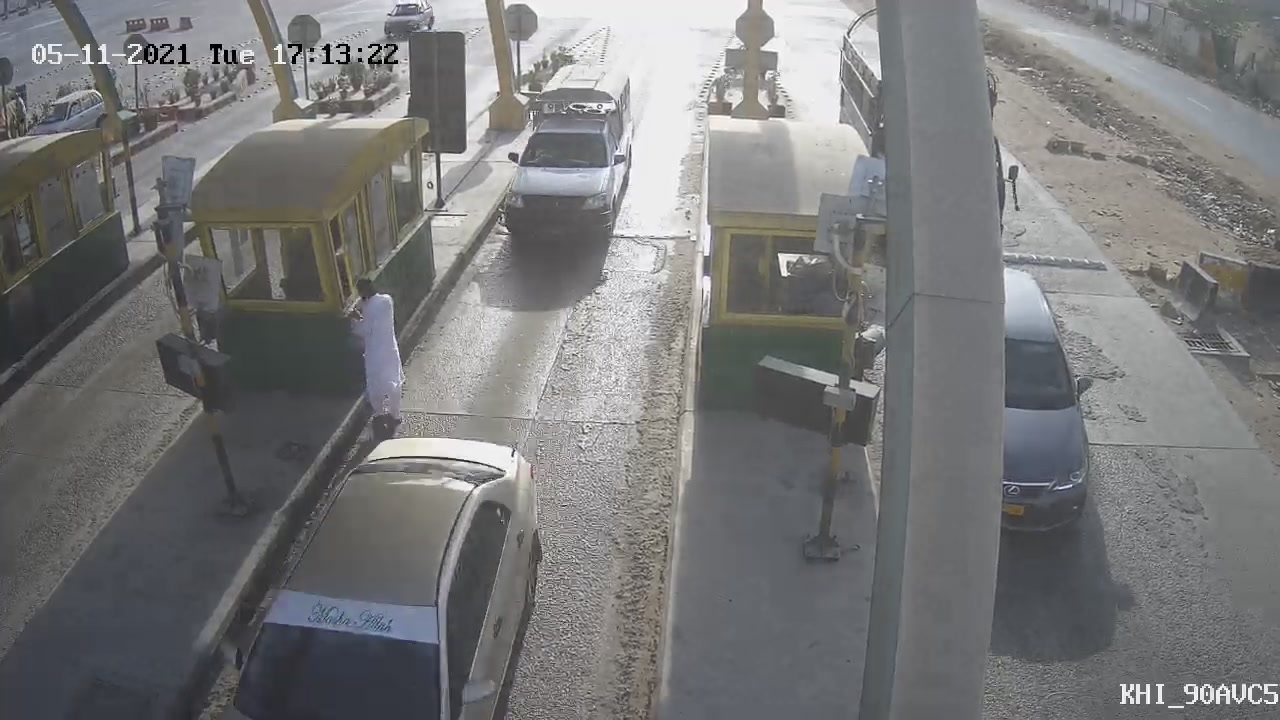F1: (483, 44, 652, 266)
